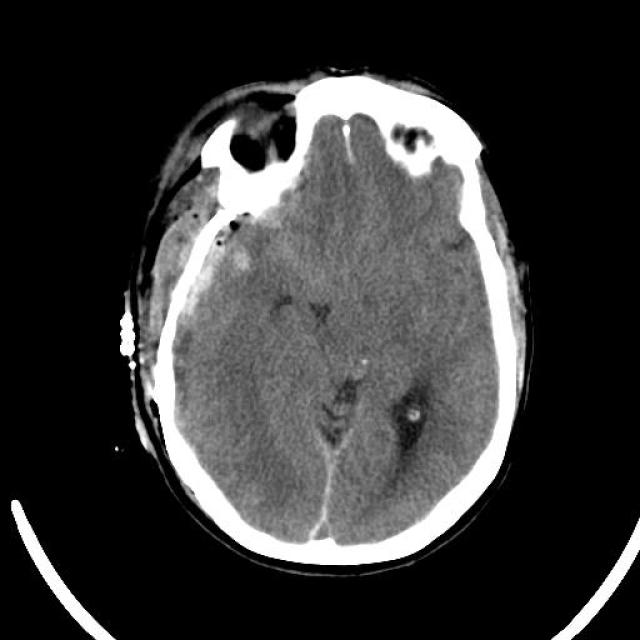Subdural: (115, 174, 283, 368), (274, 412, 388, 572)
